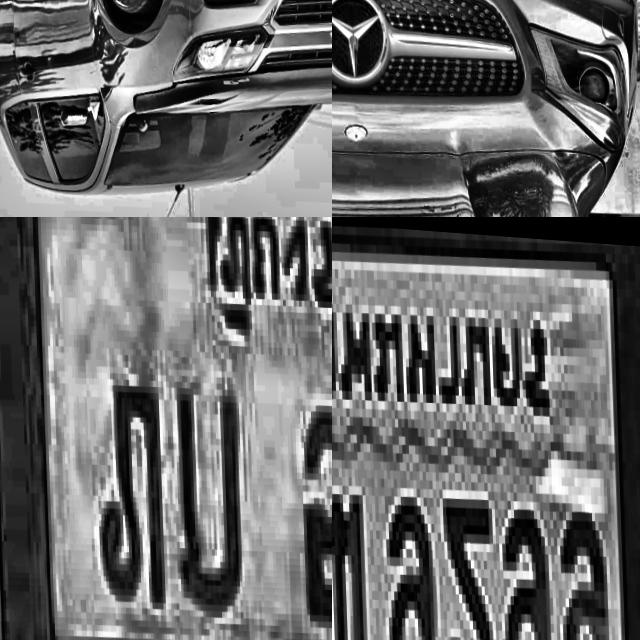license-plate: (0, 217, 332, 640), (332, 217, 640, 640)
